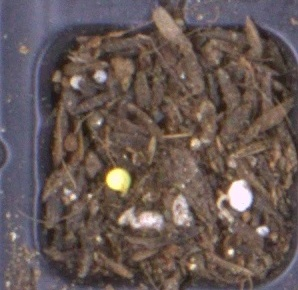chilli seed: (105, 167, 131, 192)
